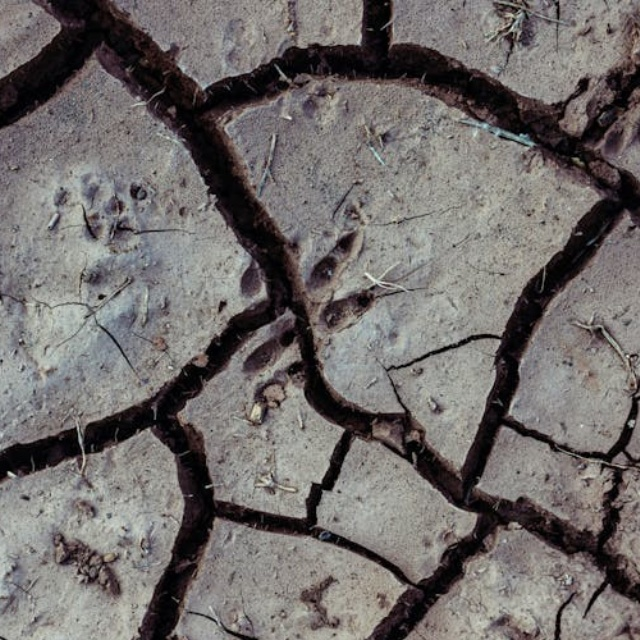深大裂缝: (0, 0, 640, 352), (0, 361, 328, 576)
